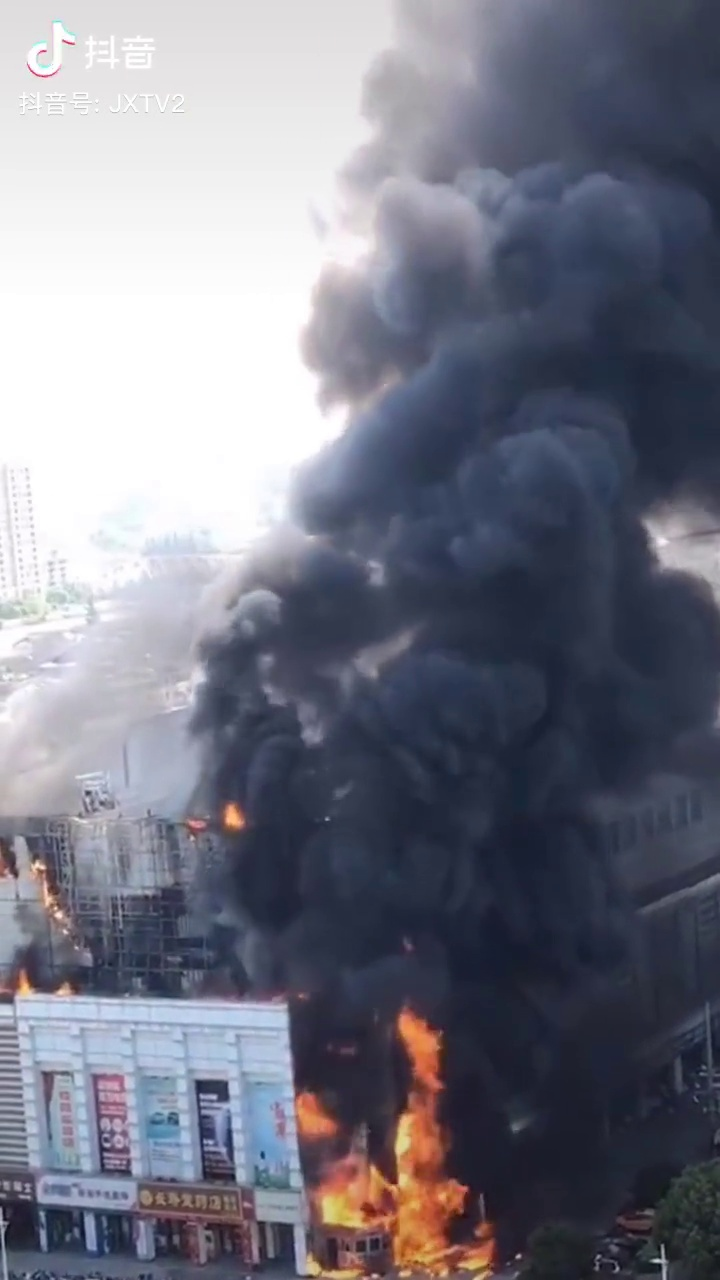fire: (370, 1012, 484, 1255)
yanwu: (206, 6, 682, 1014)
